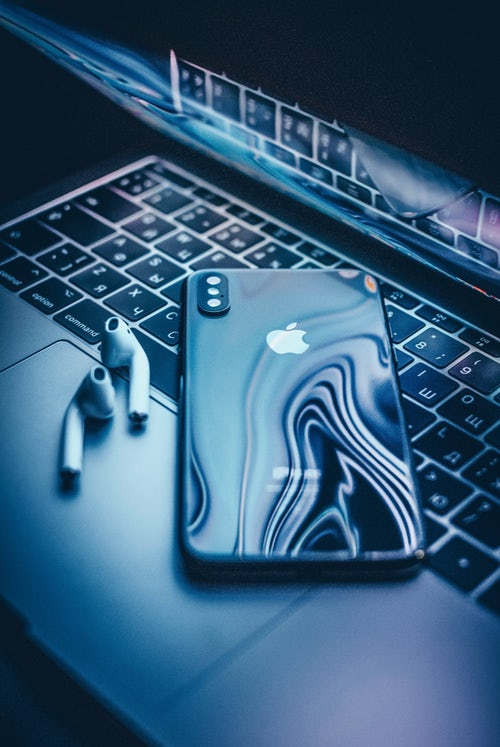phone: (180, 260, 430, 577)
